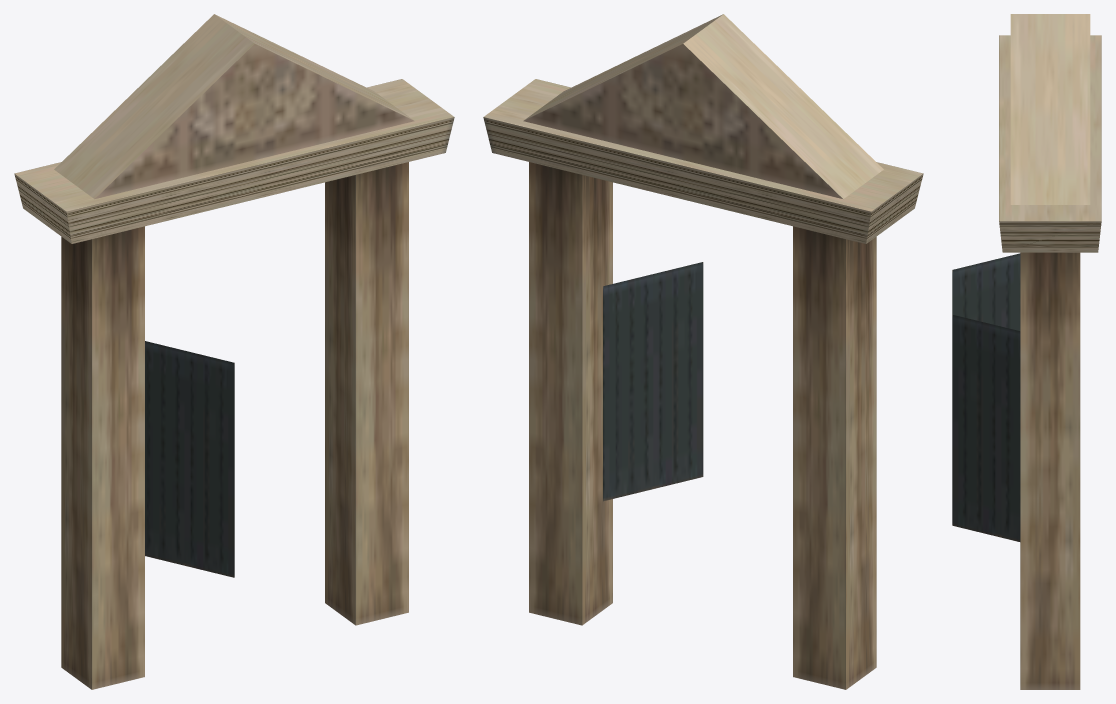
The model's file is thm_nboo_imprv_narrow_gate_s02_l3.fbx.
3 views of the same model, side by side, from view 1: azimuth 30°, elevation 25°; view 2: azimuth 150°, elevation 25°; view 3: azimuth 270°, elevation 25° (orthographic).
Visible parts, largest first — view 1: mesh_node; view 2: mesh_node; view 3: mesh_node.
Boxes of the visible parts, x1,y1,x2,y2 form: mesh_node: [14, 14, 454, 689]; mesh_node: [483, 14, 923, 689]; mesh_node: [952, 14, 1101, 689].
Size of the model in its own units: 7.31 by 11 by 2.48.
2 materials, 2 textured.
